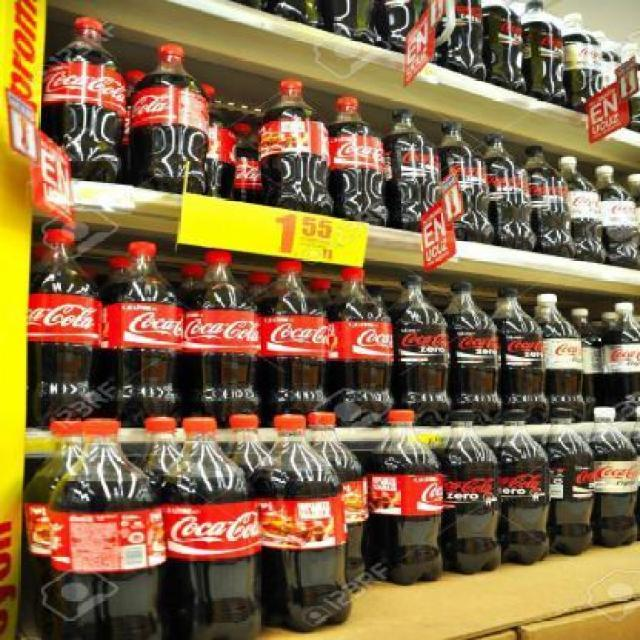Drinks: (46, 419, 164, 639), (159, 417, 259, 639), (254, 415, 351, 633), (28, 228, 104, 432), (104, 240, 186, 428), (43, 18, 127, 182), (370, 410, 446, 586), (186, 252, 260, 429), (260, 258, 332, 429), (132, 43, 209, 195), (256, 78, 333, 216), (439, 408, 501, 576), (490, 409, 552, 566), (334, 268, 394, 426), (392, 275, 450, 427), (443, 280, 501, 426), (541, 409, 597, 558), (492, 288, 550, 425), (586, 406, 640, 548), (436, 121, 496, 245), (331, 95, 387, 227), (387, 110, 443, 233), (535, 292, 583, 424), (525, 147, 581, 259), (486, 132, 537, 250), (595, 165, 639, 273), (600, 300, 638, 423), (522, 0, 566, 106), (559, 156, 601, 265), (564, 12, 608, 115), (484, 0, 526, 95), (437, 1, 483, 77)
